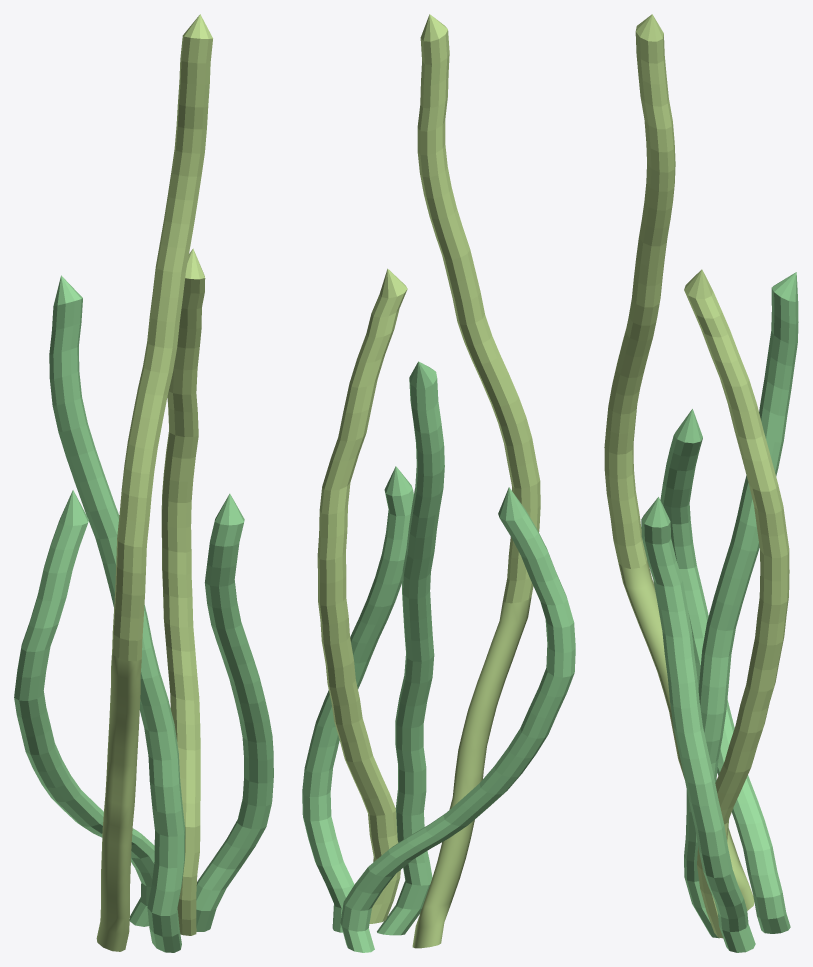
The model's file is PlantStalks.fbx.
3 renders of one model, left to right at view 1: azimuth 30°, elevation 25°; view 2: azimuth 150°, elevation 25°; view 3: azimuth 270°, elevation 25°, orthographic. The views are drawn at different scales.
Visible parts, largest first — view 1: group_431391654, group_1327425178, group_1886904059, group_2112229196, group_807797302; view 2: group_431391654, group_1886904059, group_1327425178, group_807797302, group_2112229196; view 3: group_431391654, group_1886904059, group_1327425178, group_2112229196, group_807797302.
Part boxes in pixels (x1,y1,x2,y2): group_431391654: (96, 14, 212, 951); group_1327425178: (49, 275, 185, 952); group_1886904059: (161, 248, 205, 935); group_2112229196: (196, 493, 273, 931); group_807797302: (14, 490, 154, 926); group_431391654: (412, 14, 540, 948); group_1886904059: (317, 268, 407, 923); group_1327425178: (377, 361, 444, 935); group_807797302: (340, 487, 575, 952); group_2112229196: (302, 466, 413, 932); group_431391654: (604, 14, 754, 910); group_1886904059: (684, 269, 789, 938); group_1327425178: (684, 272, 798, 938); group_2112229196: (641, 497, 755, 952); group_807797302: (660, 409, 790, 933).
Bounding box in the file's own units: 0.1008 × 0.3421 × 0.0655.
